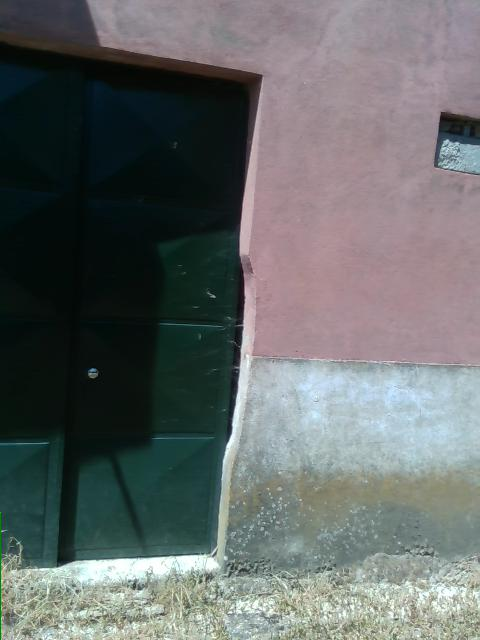door: (0, 31, 259, 570)
